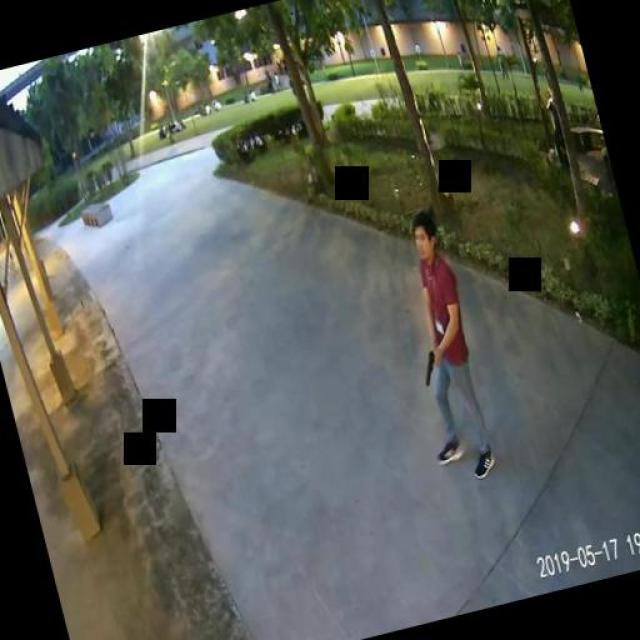gun: (416, 344, 444, 385)
